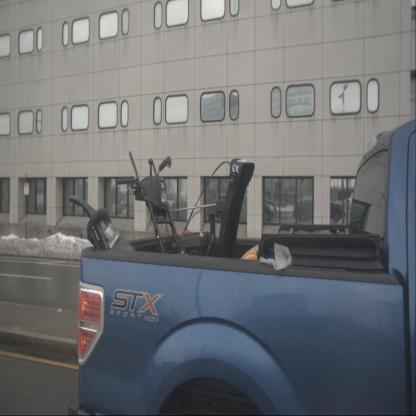vehicle-car: (230, 192, 275, 223), (171, 200, 197, 221)
vehicle-truck: (67, 119, 416, 416), (293, 190, 345, 223)
